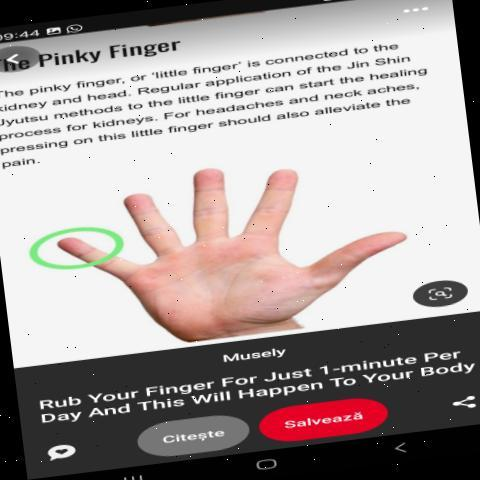Hands: (20, 148, 418, 332)
